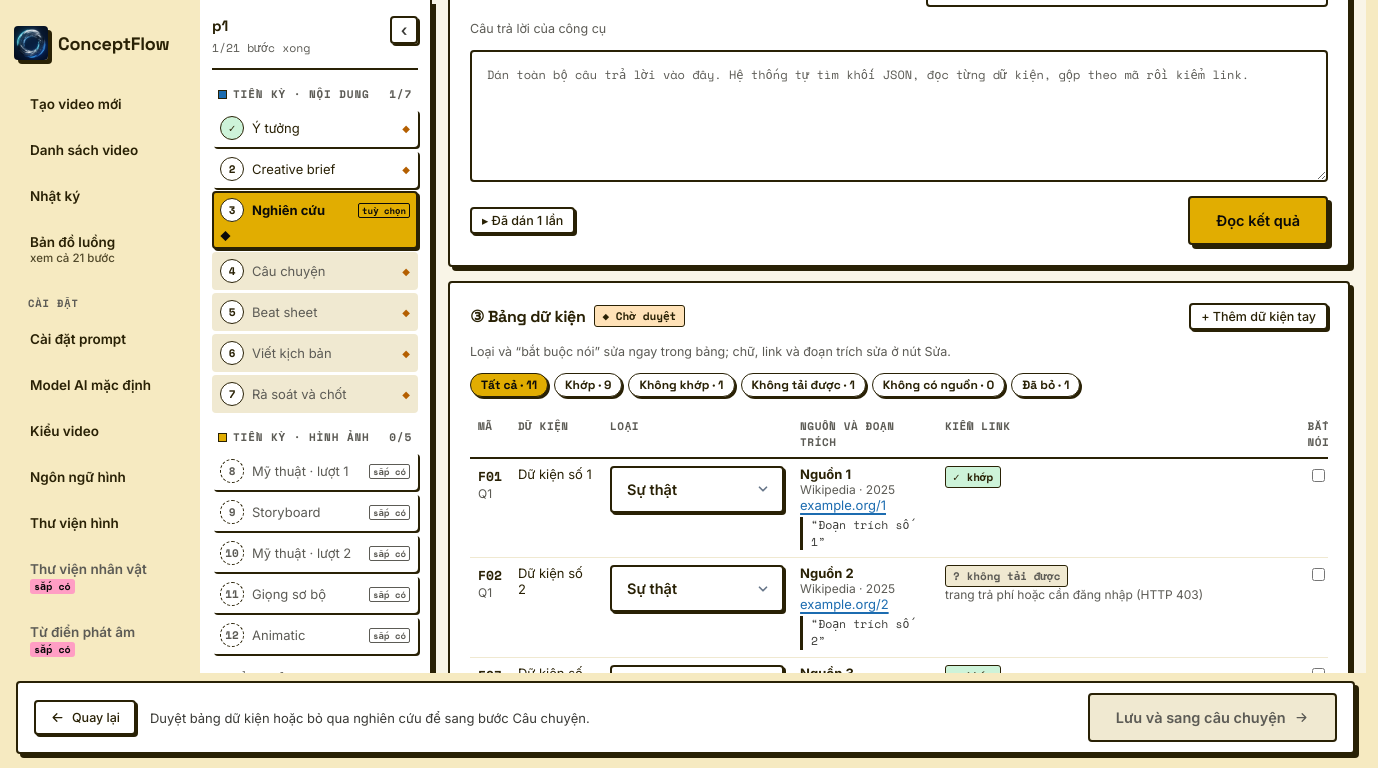
ResearchStepPage › filters the table by the result of the link check and by dropped facts
(page scrolled)
What coordinates should you click on to do the following:
click the button with test id "fact-filter-bad"
I would click on:
 (682, 385)
Its box is x1=628 y1=373 x2=734 y2=397.
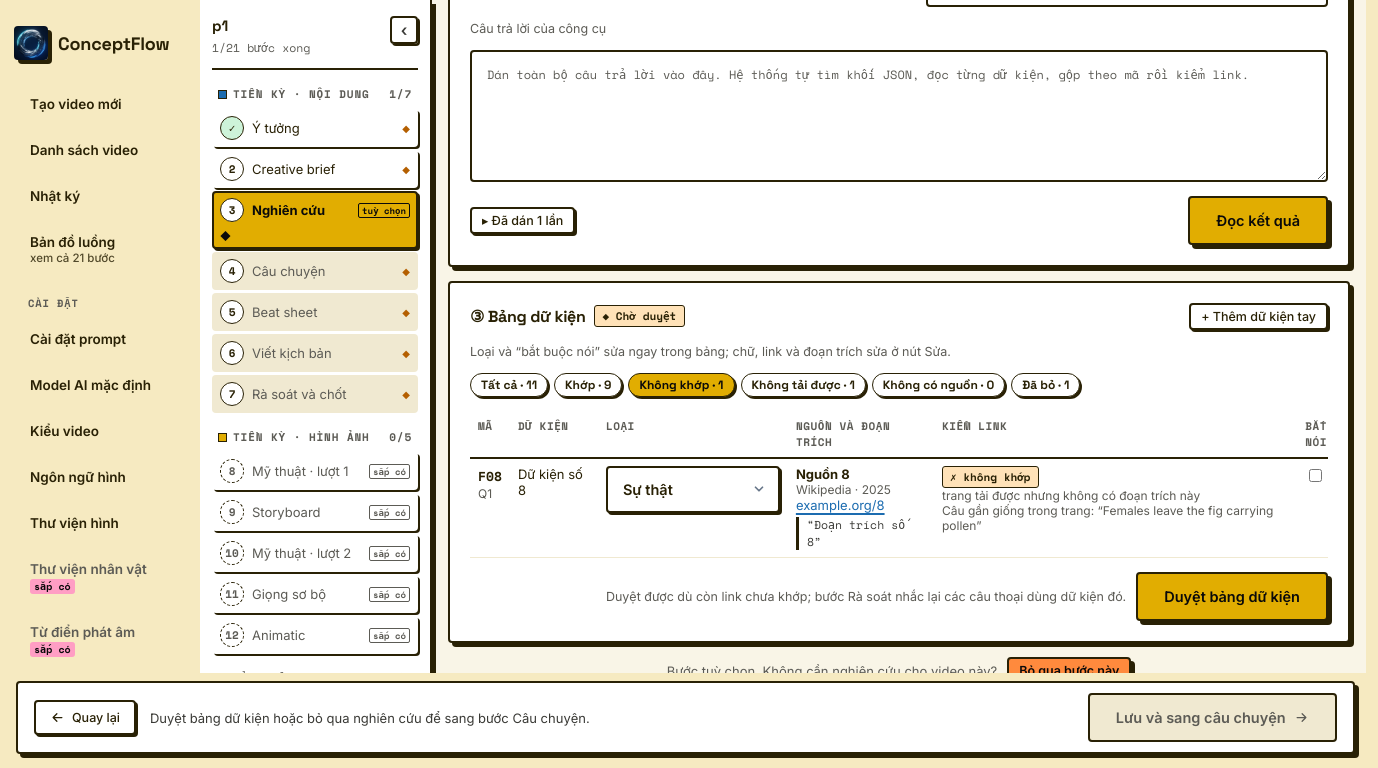
Expected: the row with test id "fact-row-F08" is shown, x1=470 y1=458 x2=1328 y2=558
Result: the row with test id "fact-row-F01" is gone
What coordinates should you click on to do the following:
click the button with test id "fact-filter-na"
I would click on:
 (803, 385)
Its box is x1=740 y1=373 x2=866 y2=397.
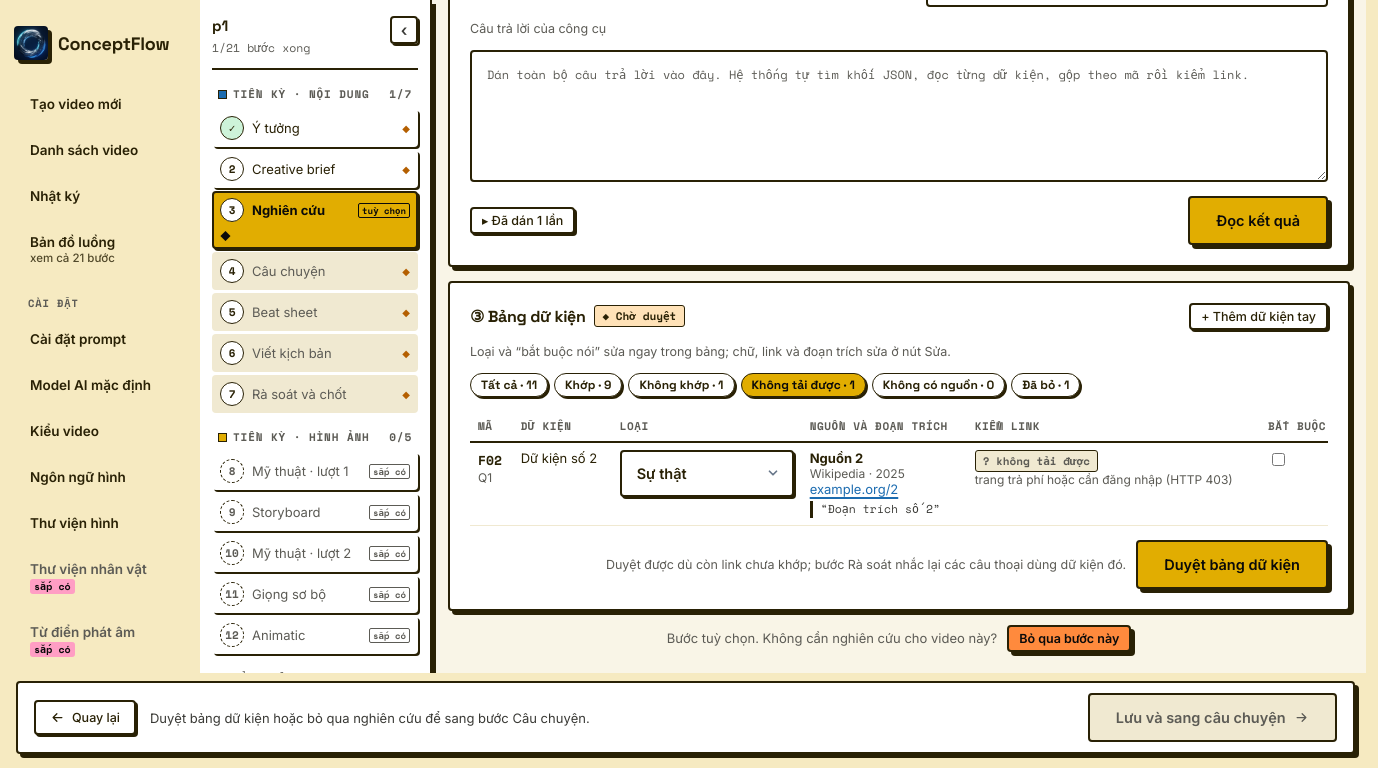
Result: the row with test id "fact-row-F02" is shown at x1=470 y1=442 x2=1328 y2=525
What coordinates should you click on to do the following:
click the button with test id "fact-filter-drop"
I would click on:
 (1046, 385)
Its box is x1=1011 y1=373 x2=1080 y2=397.
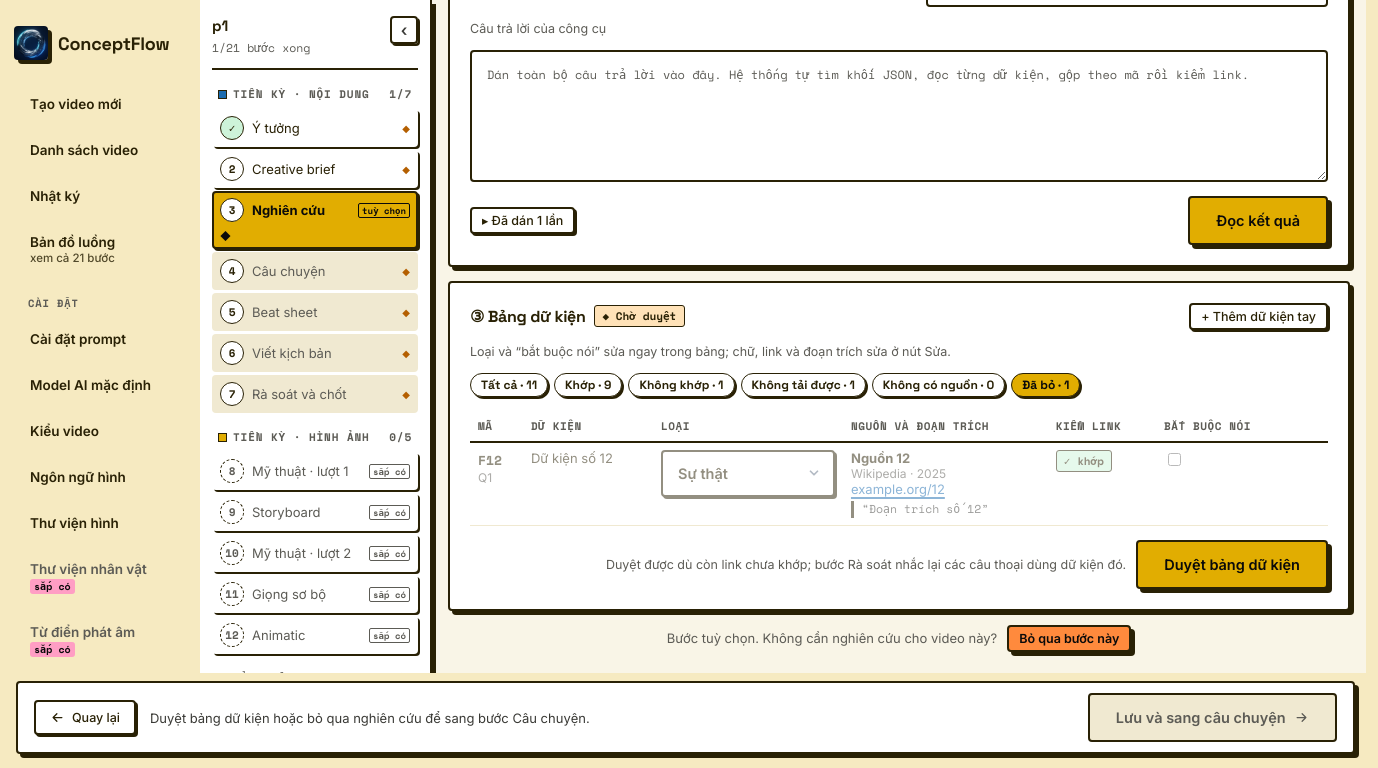
Result: the row with test id "fact-row-F12" is shown at x1=470 y1=442 x2=1328 y2=525
What coordinates should you click on to do the following:
click the button with test id "fact-filter-all"
I would click on:
 (509, 385)
Its box is x1=470 y1=373 x2=548 y2=397.
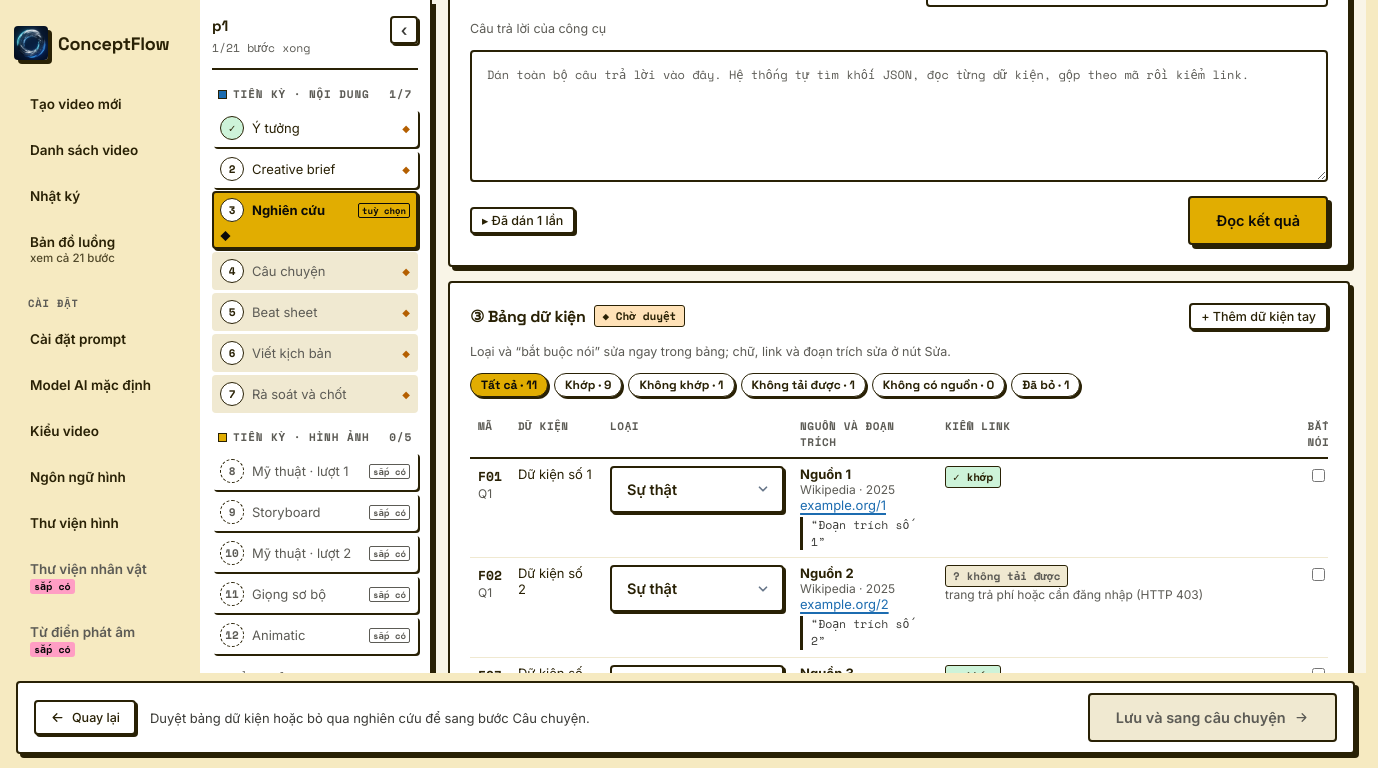
Result: the row with test id "fact-row-F12" is gone
